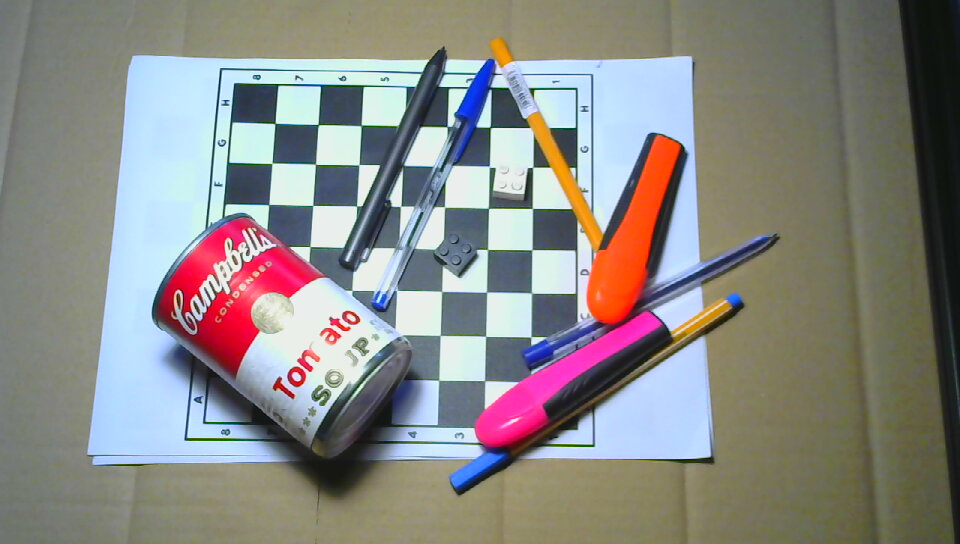bp: (433, 231, 479, 279)
wp: (490, 162, 530, 202)
